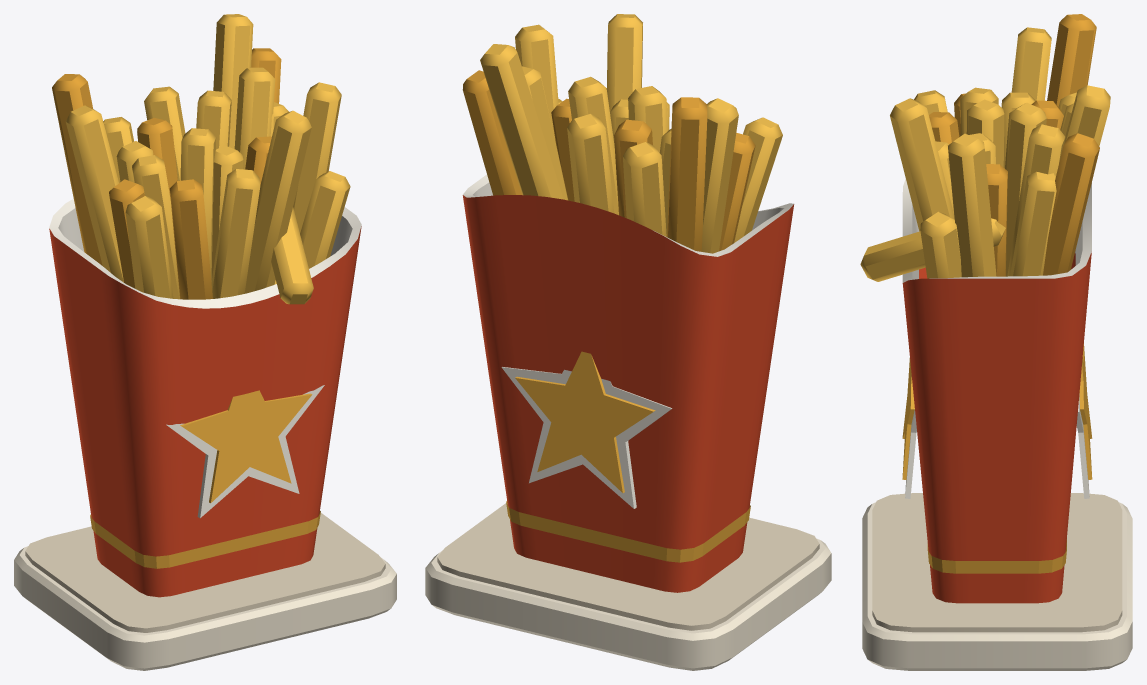
Rendered from Lobby_GiantFries.fbx.
3 renders of one model, left to right at view 1: azimuth 30°, elevation 25°; view 2: azimuth 150°, elevation 25°; view 3: azimuth 270°, elevation 25°, orthographic. The views are drawn at different scales.
Visible parts, largest first — view 1: Carton, Fries, PlinthFoot, Plinth, FriesToasted, Star, CartonCream; view 2: Carton, Fries, PlinthFoot, Plinth, FriesToasted, Star, CartonCream; view 3: Carton, Fries, PlinthFoot, Plinth, FriesToasted, Star, CartonCream.
Boxes of the visible parts, left/top/right/bottom form: Carton: left=49, top=226, right=361, bottom=597; Fries: left=65, top=14, right=350, bottom=304; PlinthFoot: left=25, top=513, right=385, bottom=632; Plinth: left=14, top=546, right=396, bottom=670; FriesToasted: left=52, top=48, right=281, bottom=299; Star: left=90, top=390, right=320, bottom=568; CartonCream: left=49, top=199, right=361, bottom=518; Carton: left=462, top=195, right=794, bottom=592; Fries: left=480, top=14, right=782, bottom=253; PlinthFoot: left=437, top=503, right=819, bottom=630; Plinth: left=425, top=538, right=831, bottom=670; FriesToasted: left=462, top=70, right=755, bottom=251; Star: left=506, top=351, right=750, bottom=562; CartonCream: left=463, top=174, right=793, bottom=508; Carton: left=902, top=252, right=1091, bottom=603; Fries: left=860, top=27, right=1110, bottom=281; PlinthFoot: left=872, top=493, right=1122, bottom=632; Plinth: left=862, top=502, right=1132, bottom=670; FriesToasted: left=929, top=14, right=1099, bottom=276; Star: left=902, top=344, right=1092, bottom=573; CartonCream: left=902, top=178, right=1091, bottom=498.
Bounding box in the file's own units: 500 × 901 × 403.
